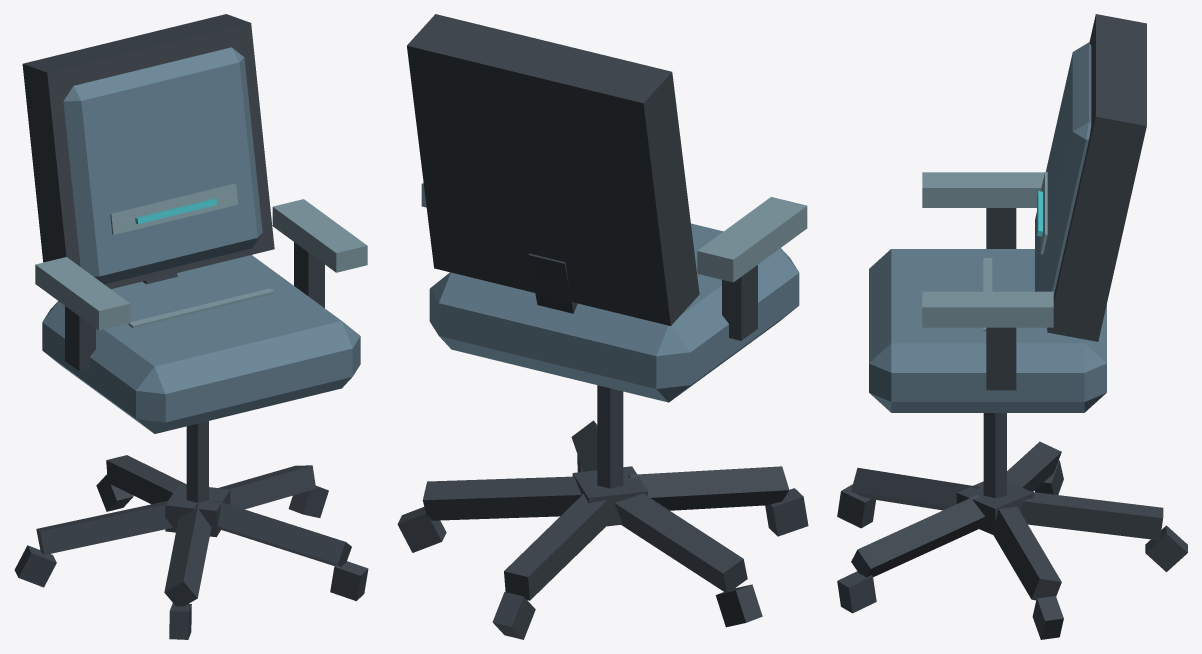
File: 0-20261016-1900-ev011-r02-collab-taskchair.fbx
The picture shows the model from 3 angles, left to right: view 1: azimuth 30°, elevation 25°; view 2: azimuth 150°, elevation 25°; view 3: azimuth 270°, elevation 25°; orthographic projection. The views are drawn at different scales.
Parts seen in each view (by area): view 1: SW_Collab_TaskChair; view 2: SW_Collab_TaskChair; view 3: SW_Collab_TaskChair.
Boxes of the visible parts, <box> form: SW_Collab_TaskChair: <box>14,14,368,639</box>; SW_Collab_TaskChair: <box>397,14,808,639</box>; SW_Collab_TaskChair: <box>837,14,1187,639</box>.
Bounding box in the file's own units: 74.64 × 112 × 70.7.
